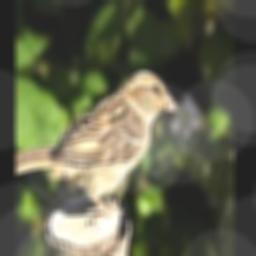Sparrow: (15, 69, 177, 213)
